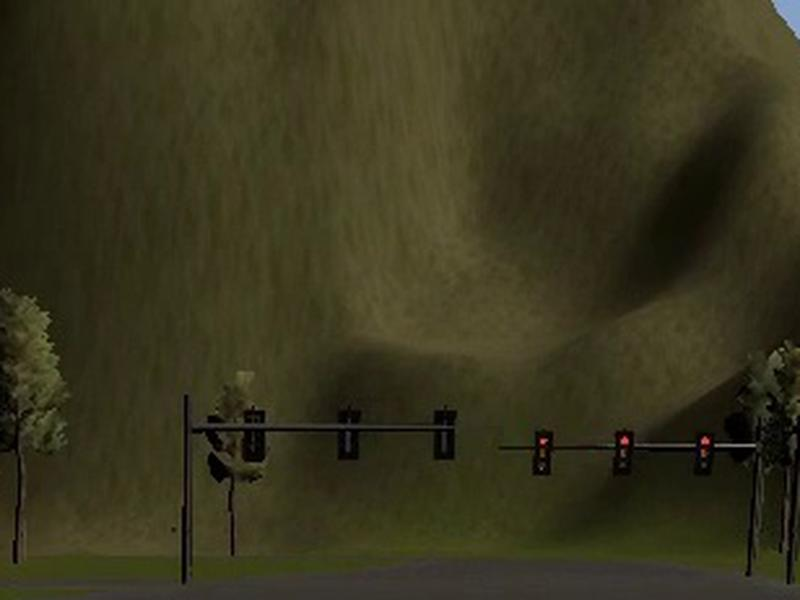Red: (614, 429, 633, 477), (694, 431, 714, 474), (534, 429, 552, 476)
